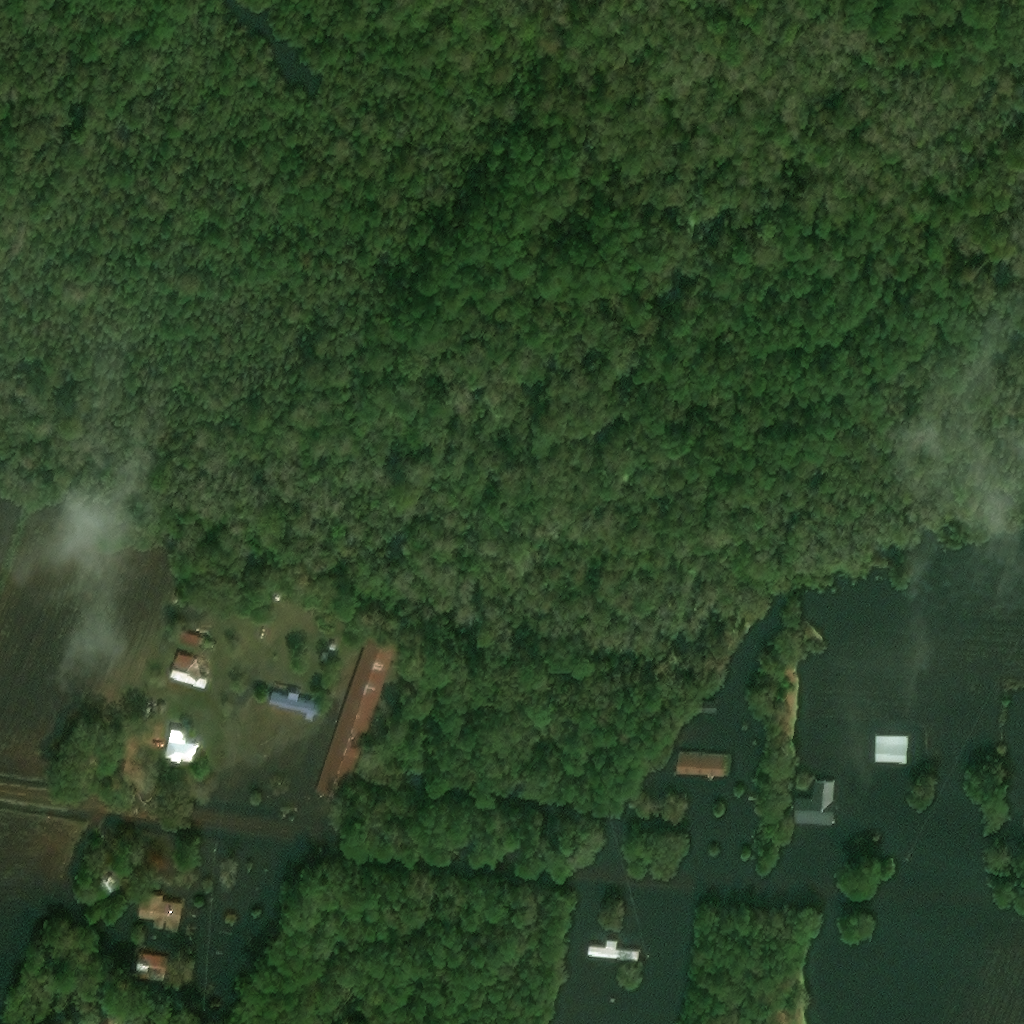major_damage: (793, 780, 836, 825), (139, 896, 183, 932), (674, 753, 726, 777), (586, 942, 642, 962), (875, 738, 908, 764), (135, 953, 168, 974), (696, 701, 717, 715)
minor_damage: (314, 634, 397, 804), (163, 729, 199, 764)
no_damage: (268, 691, 323, 721), (173, 654, 209, 678), (168, 670, 206, 688), (178, 633, 203, 649)
